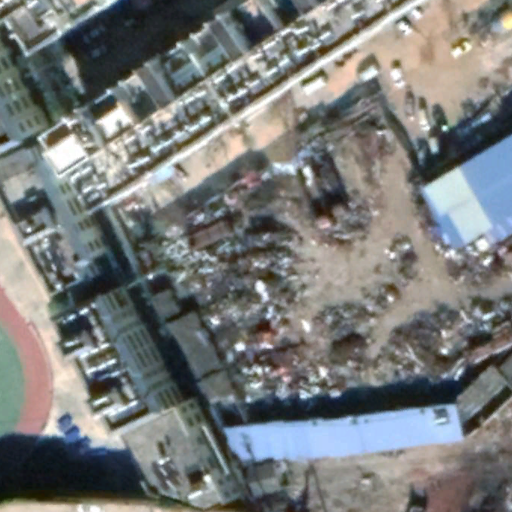msw: (156, 115, 512, 415)
